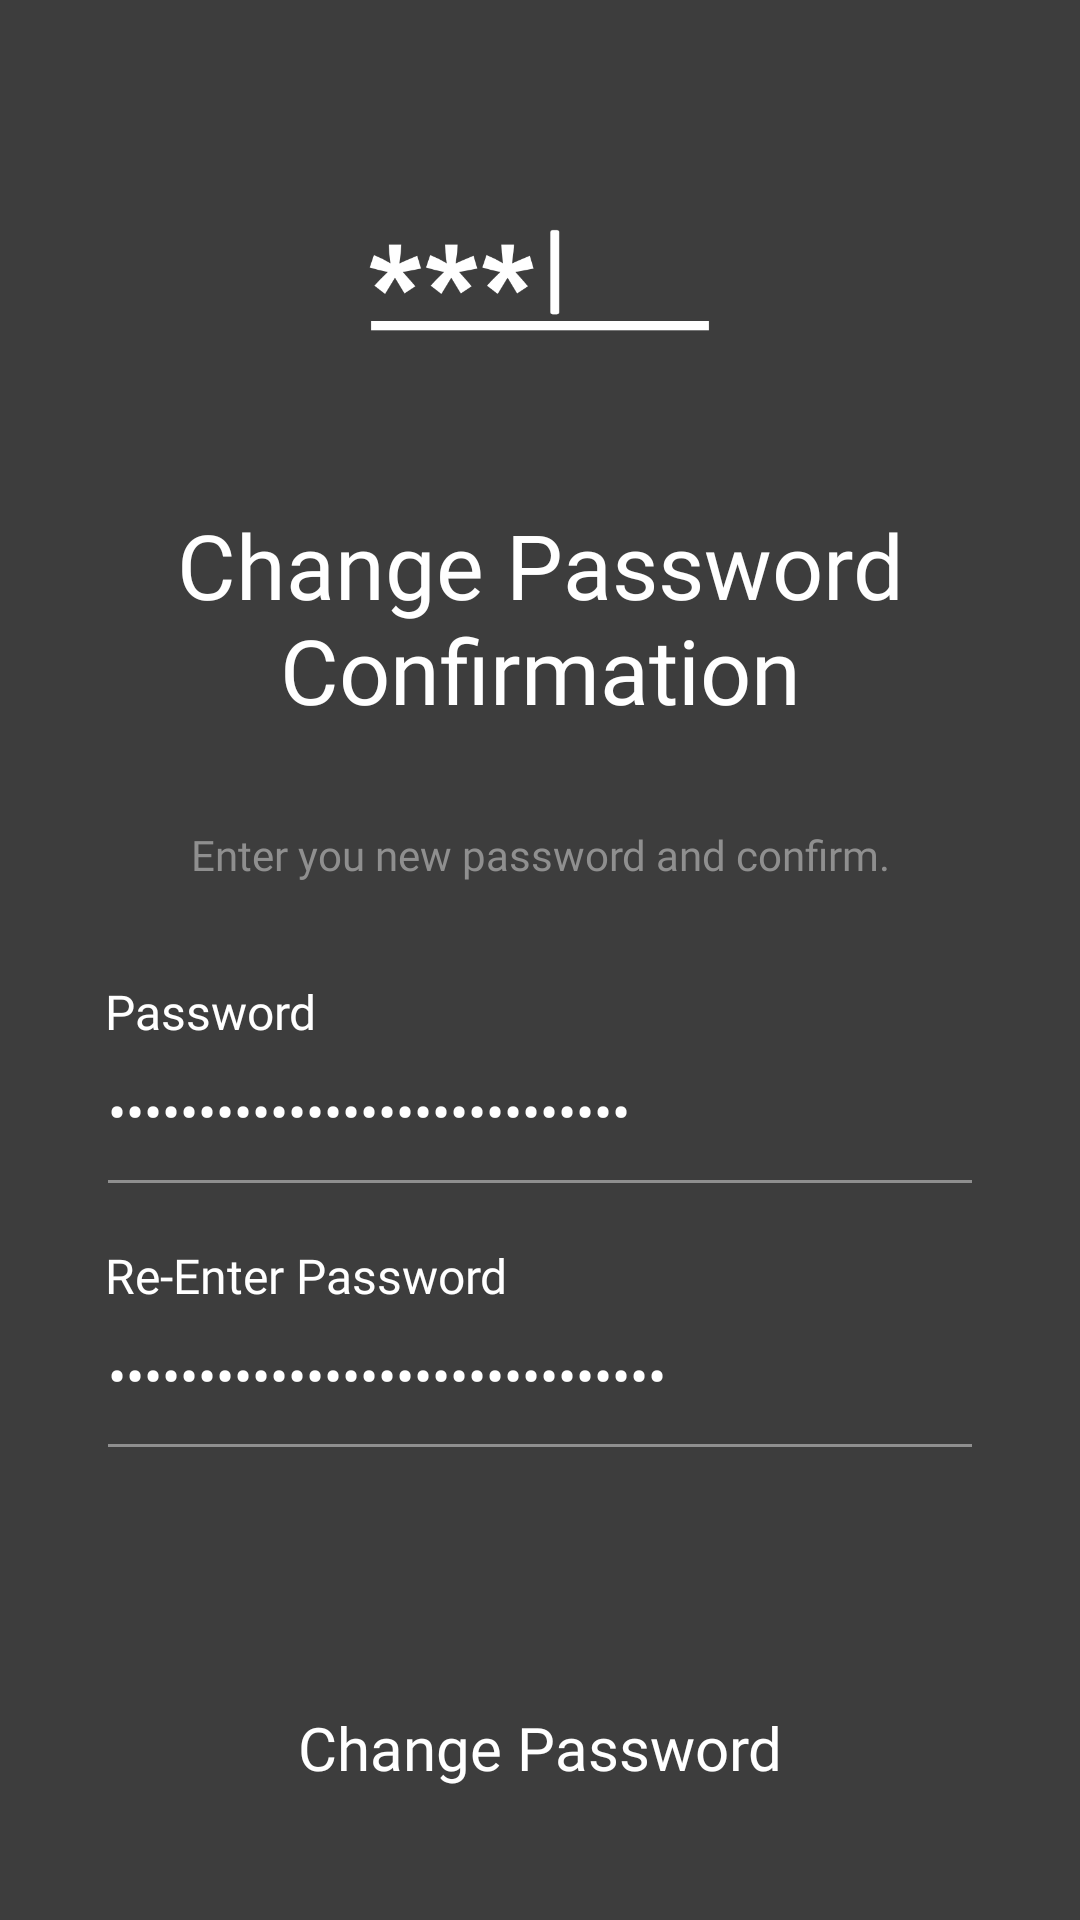

Icons on this 1080x1920 Android screen, each with the point to tap as point (x, y):
typing password: point (539, 280)
